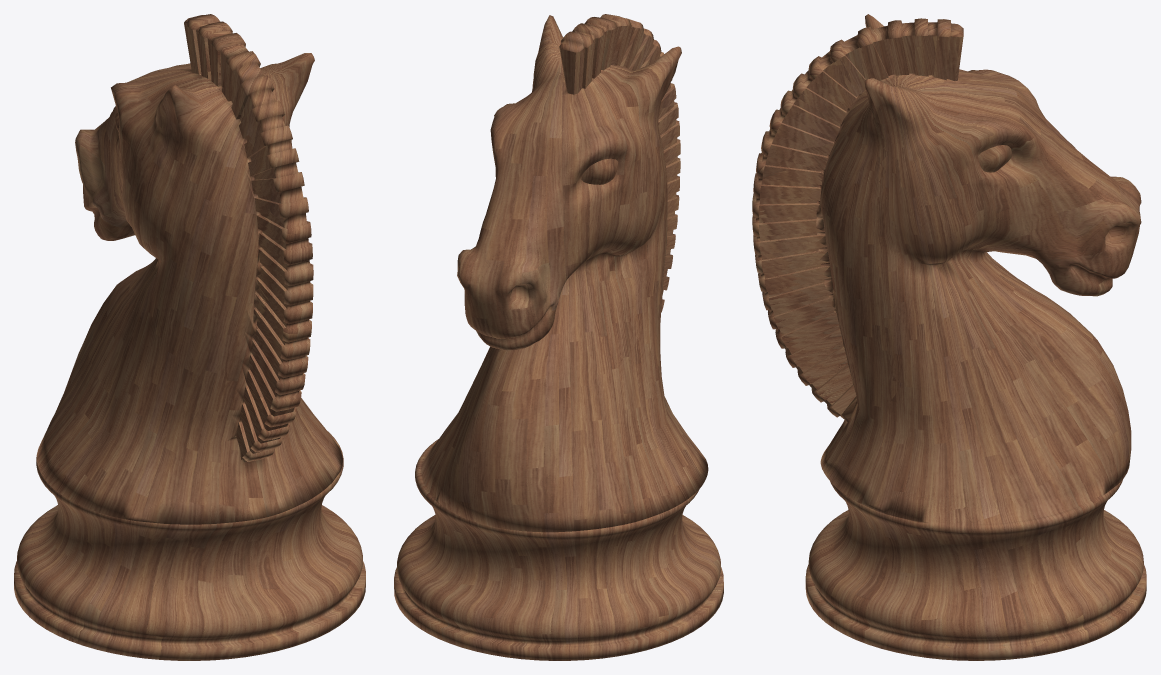
The model's file is model_knight.glb.
The picture shows the model from 3 angles, left to right: view 1: azimuth 30°, elevation 25°; view 2: azimuth 150°, elevation 25°; view 3: azimuth 270°, elevation 25°; orthographic projection. The views are drawn at different scales.
Parts seen in each view (by area): view 1: KNIGHT; view 2: KNIGHT; view 3: KNIGHT.
Boxes of the visible parts, <box> form: KNIGHT: <box>14,14,365,660</box>; KNIGHT: <box>394,14,723,660</box>; KNIGHT: <box>752,14,1146,660</box>.
Bounding box in the file's own units: 0.889 × 1.62 × 1.03.
Materials: 1 (1 with a texture image).
